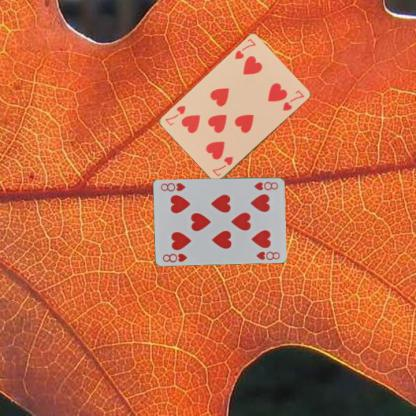7h: (232, 36, 257, 61), (210, 154, 234, 178)
8h: (251, 179, 279, 191), (160, 251, 188, 263)
